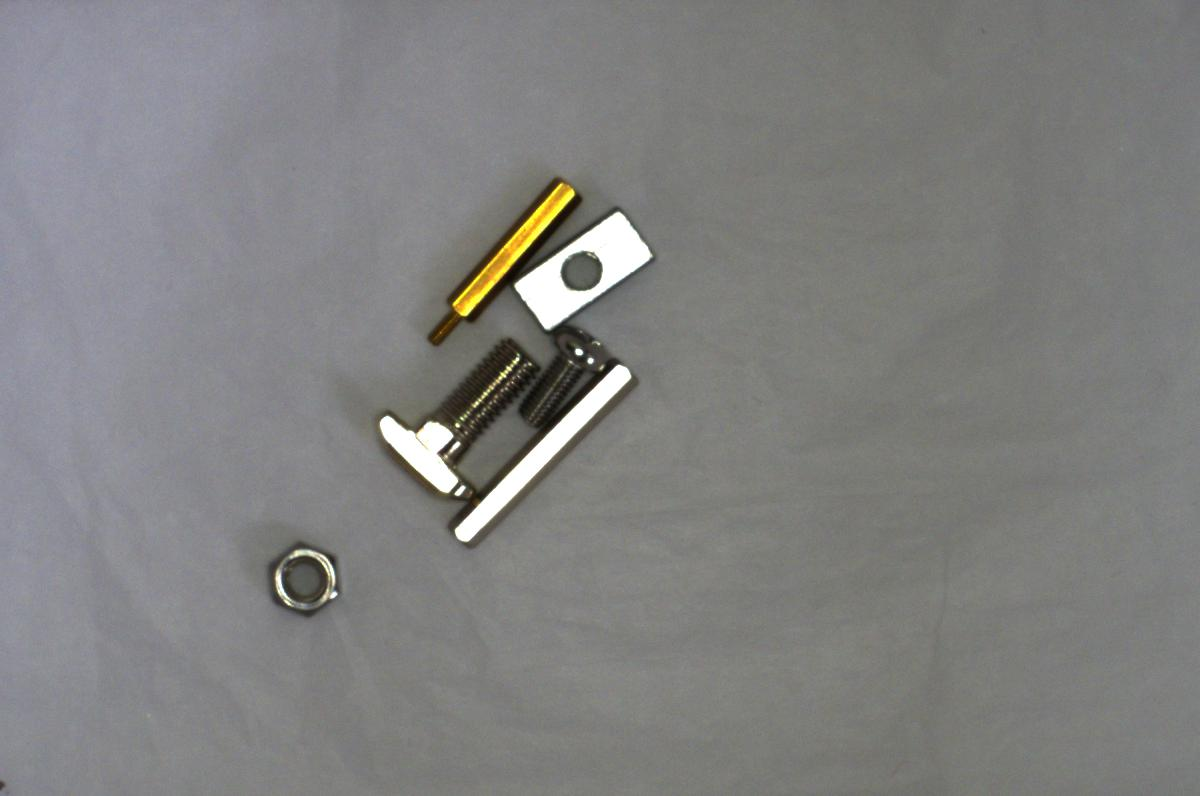Double hexagonal column: (426, 362, 637, 558)
Hexagon nut: (259, 535, 351, 626)
Hexagon pillar: (418, 173, 580, 346)
Rectangular nut: (511, 195, 655, 332)
Round head screw: (513, 327, 607, 436)
T-shaped screw: (372, 343, 531, 503)
